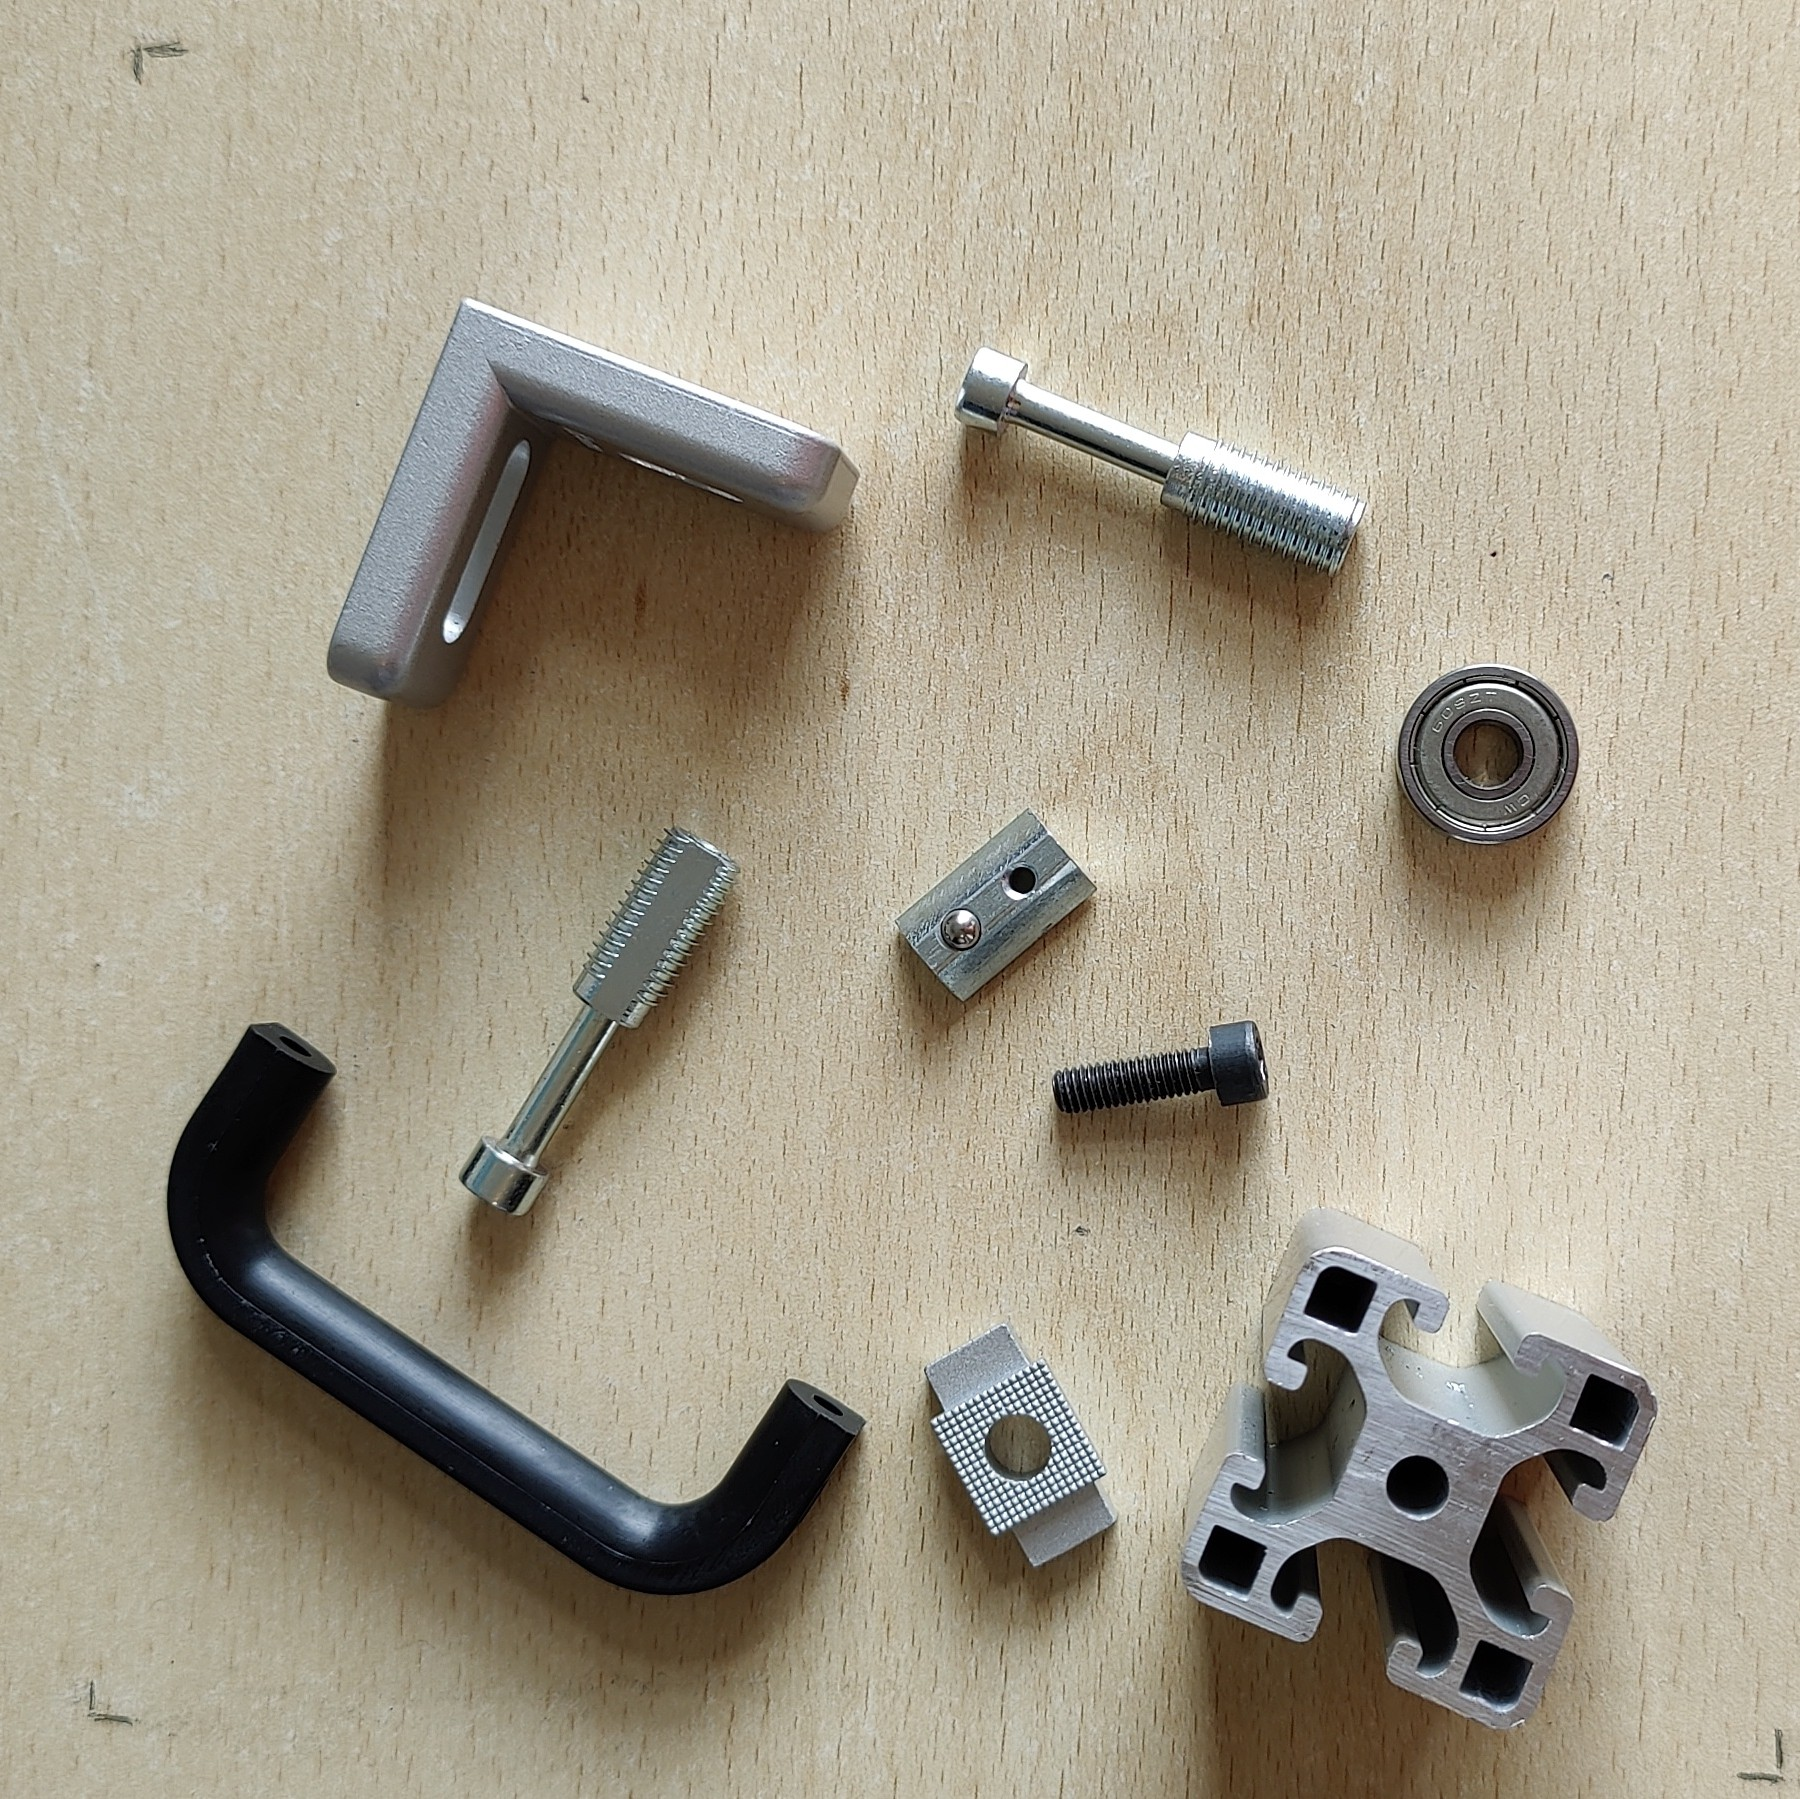Aluminium Extension: (1179, 1206, 1662, 1733)
Ball Bearing: (1397, 666, 1581, 847)
Multiwinkel: (323, 298, 860, 713)
Pull Handle: (165, 1018, 866, 1598)
Shoulder Socket Head Cap Screw: (456, 822, 739, 1219), (952, 343, 1369, 582)
Socket Head Cap Screw: (1051, 1016, 1270, 1117)
T Nut Square: (921, 1323, 1120, 1572)
T Spring Nut: (893, 807, 1097, 1003)
